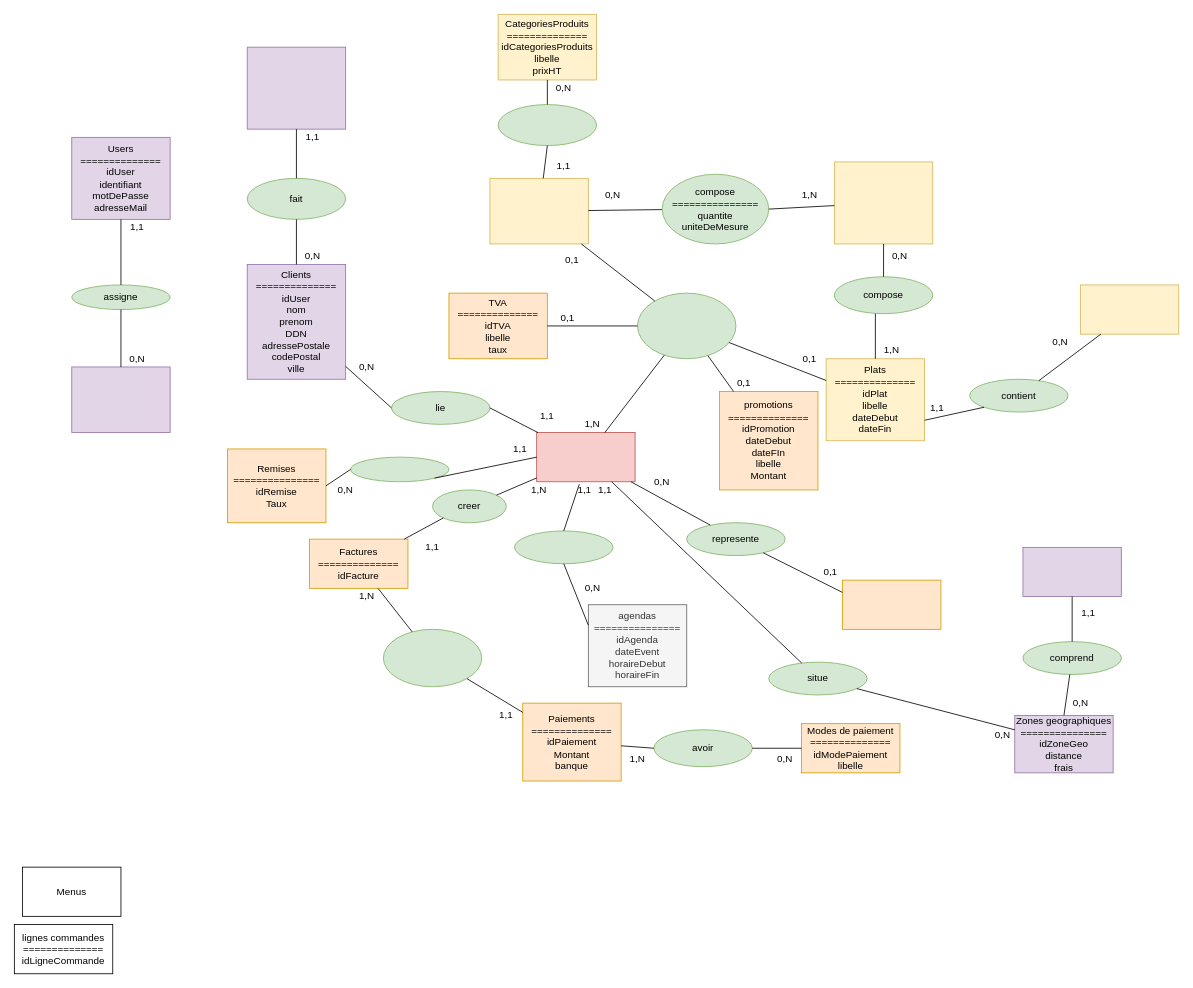
Some shapes in this 1193 by 988 pixel diagram are drawn without their labels. The shapes that lost their labels are listed below. From the top down, each one's centre as x and y in pixels, then its label:
(296,87): Temoignages ============== idTemoignage titre note texte
(547,125): appartient
(538,211): Produits ============= idProduit libelle stock
(883,202): Recettes =============== idRecette libelle cheminImage Description prixHT
(686,325): Contient (ligneCommande) quantite
(1129,309): CategoriesPlats ============= idCategoriesPlats libelle
(120,399): Roles ============== idRole libelle
(399,469): détermine
(585,457): Commandes ============== idCommande numero
(563,547): réserve
(1071,572): Villes ================= idVille libelle
(891,604): Devis ============== idDevis
(432,658): regle ============== datePaiement
